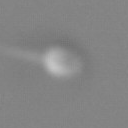normal: (1, 40, 43, 73)
